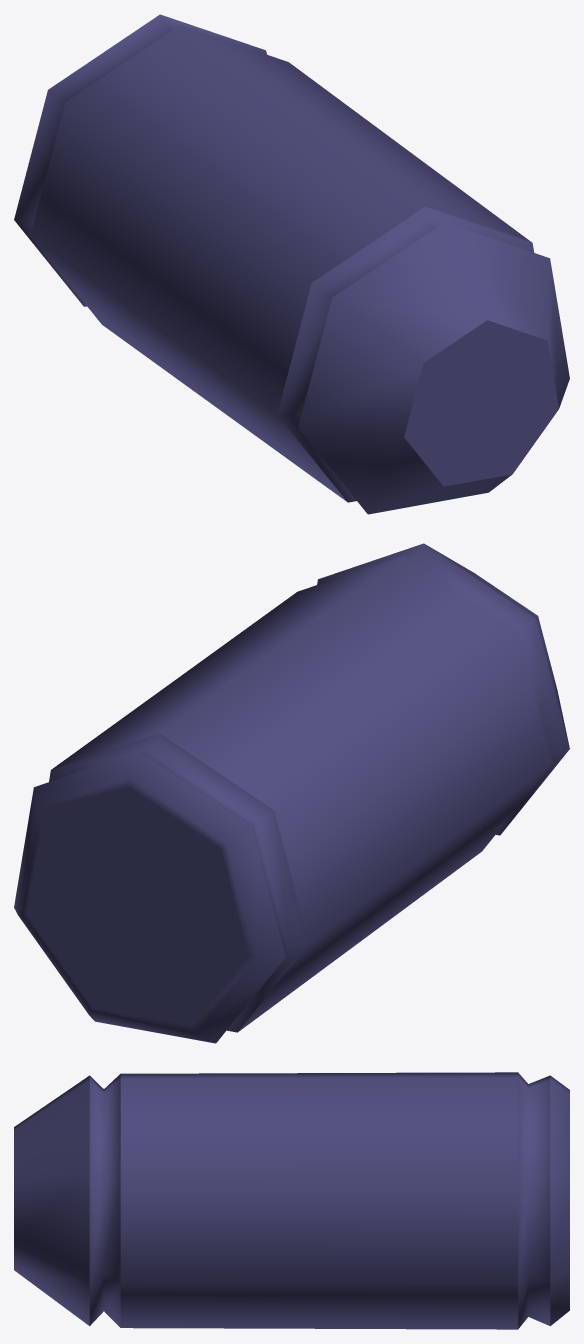
File: Revolver Bullet.fbx
The picture shows the model from 3 angles, top to bottom: view 1: azimuth 30°, elevation 25°; view 2: azimuth 150°, elevation 25°; view 3: azimuth 270°, elevation 25°; orthographic projection. The views are drawn at different scales.
Parts seen in each view (by area): view 1: Cylinder.001; view 2: Cylinder.001; view 3: Cylinder.001.
Boxes of the visible parts, x1=… form: Cylinder.001: x1=14, y1=14, x2=569, y2=514; Cylinder.001: x1=14, y1=543, x2=569, y2=1043; Cylinder.001: x1=14, y1=1072, x2=569, y2=1329.
Bounding box in the file's own units: 56.56 × 55.9 × 121.
